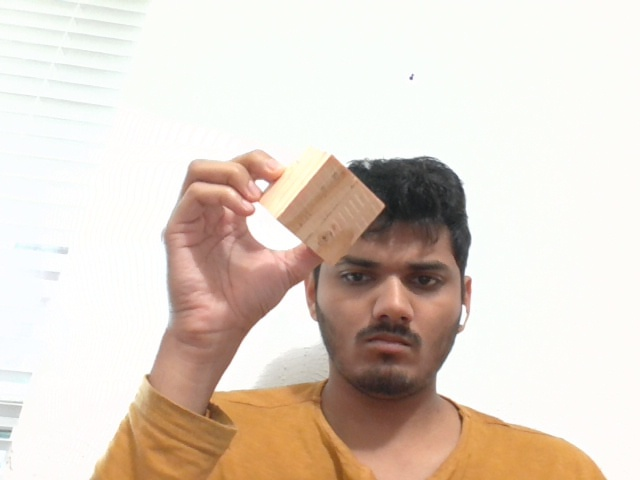NormalBlock: (279, 155, 385, 267)
